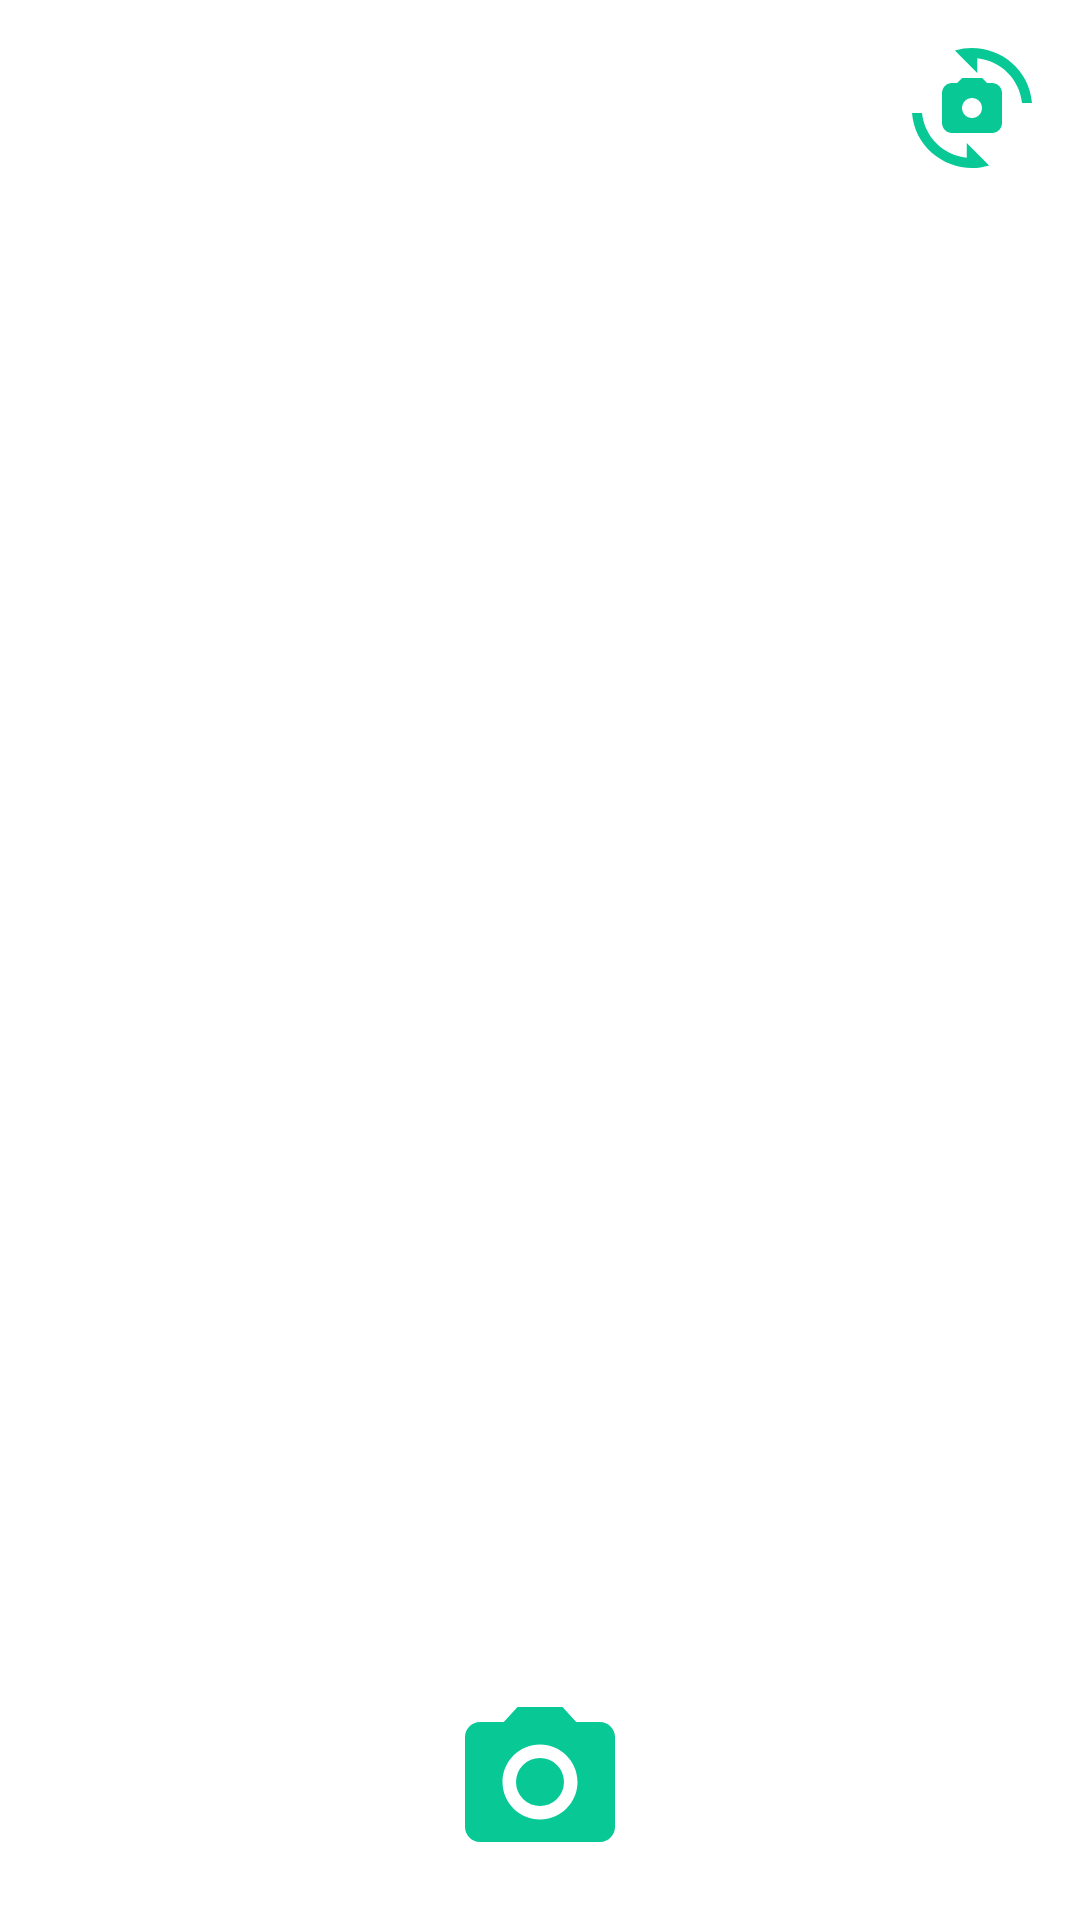

Point at icon controls on the screen. Image size 1080w x 1920h, points as (x,y).
kamera: (540,1774)
switch: (972,108)
